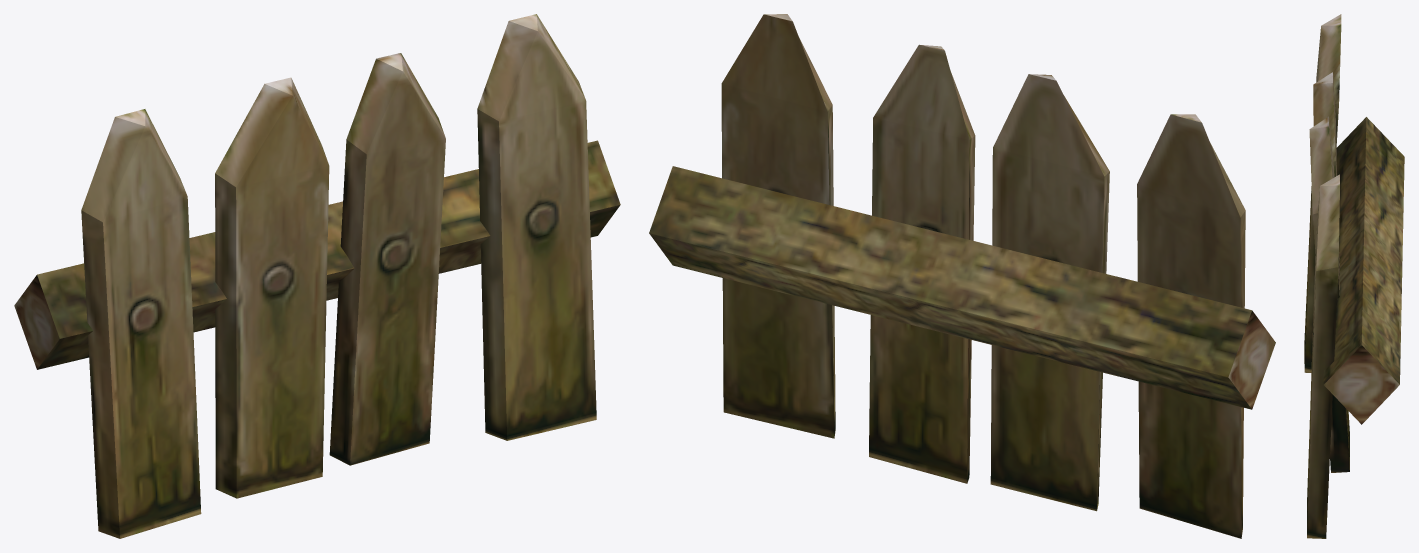
File: Greenland_Fence02.FBX
The picture shows the model from 3 angles, left to right: view 1: azimuth 30°, elevation 25°; view 2: azimuth 150°, elevation 25°; view 3: azimuth 270°, elevation 25°; orthographic projection. The views are drawn at different scales.
Visible parts, largest first — view 1: Greenland_Fence02; view 2: Greenland_Fence02; view 3: Greenland_Fence02.
Part boxes in pixels (x1,y1,x2,y2): Greenland_Fence02: (14,14,620,538); Greenland_Fence02: (649,14,1275,538); Greenland_Fence02: (1304,14,1404,538).
Bounding box in the file's own units: 79.82 × 55.14 × 14.82.
1 material, 1 textured.
